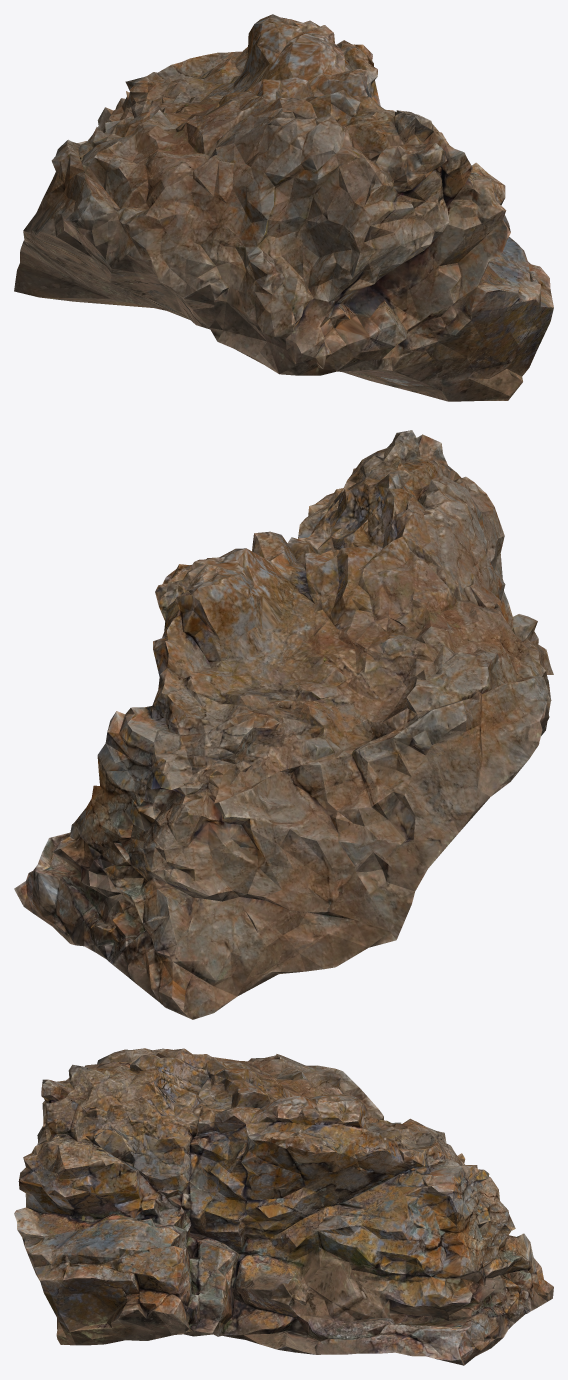
The model's file is boulder_01.glb.
3 renders of one model, top to bottom at view 1: azimuth 30°, elevation 25°; view 2: azimuth 150°, elevation 25°; view 3: azimuth 270°, elevation 25°, orthographic. The views are drawn at different scales.
Parts seen in each view (by area): view 1: boulder_01_LOD0; view 2: boulder_01_LOD0; view 3: boulder_01_LOD0.
Boxes of the visible parts, x1,y1,x2,y2 form: boulder_01_LOD0: (14, 14, 553, 401); boulder_01_LOD0: (14, 430, 553, 1019); boulder_01_LOD0: (14, 1048, 553, 1365).
Size of the model in its own units: 1.28 by 0.9993 by 1.83.
1 material, 1 textured.
